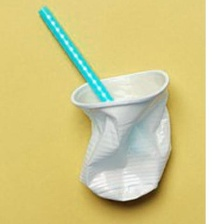drinking_straw: (33, 4, 118, 107)
glass: (65, 68, 185, 207)
